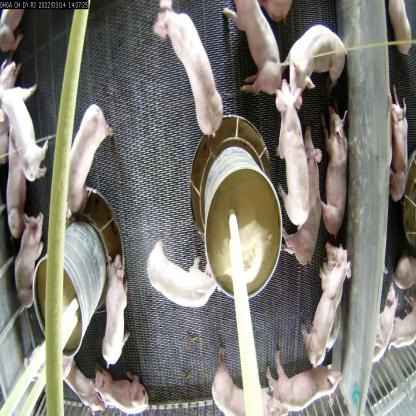Pig: (156, 13, 224, 168), (138, 224, 219, 316), (68, 101, 118, 224), (263, 85, 308, 221), (283, 129, 321, 283), (277, 13, 343, 96), (226, 1, 277, 102), (318, 113, 352, 235), (307, 255, 341, 366), (101, 258, 138, 356), (271, 363, 339, 415), (0, 143, 30, 250), (13, 219, 46, 307), (103, 360, 154, 415), (10, 79, 38, 175), (216, 373, 278, 415), (61, 350, 101, 410)
